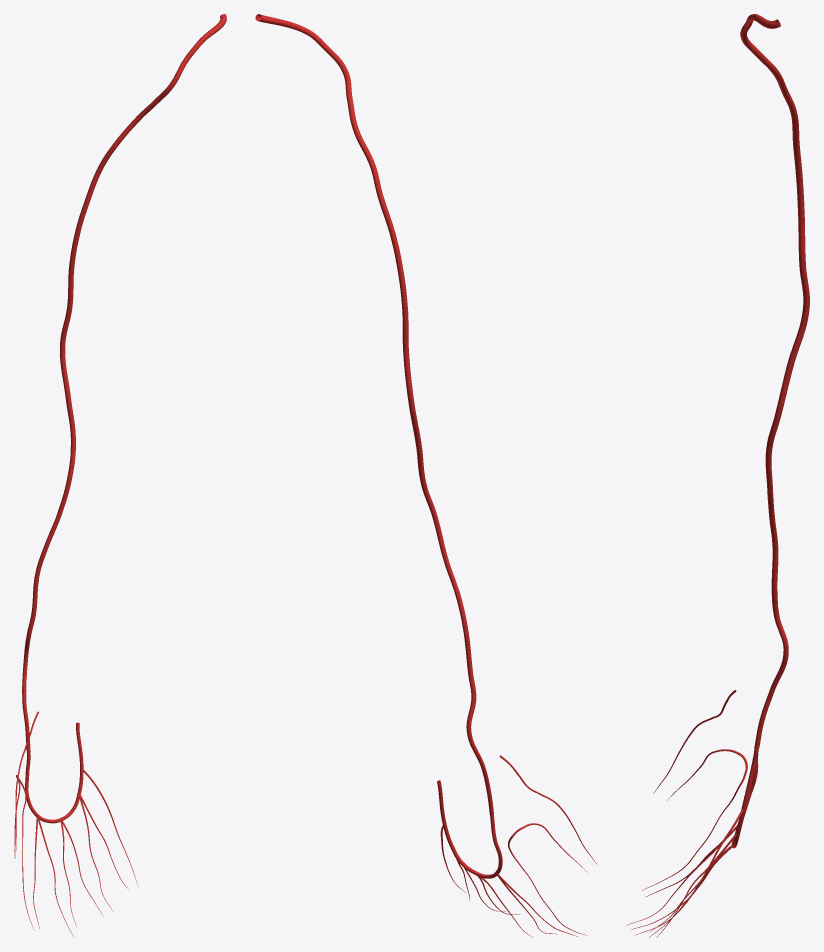
The model's file is circulatorio-cephalic-vein-r.glb.
3 renders of one model, left to right at view 1: azimuth 30°, elevation 25°; view 2: azimuth 150°, elevation 25°; view 3: azimuth 270°, elevation 25°, orthographic. The views are drawn at different scales.
Parts seen in each view (by area): view 1: Cephalic vein.r, Dorsal digital veins of hand.r, Dorsal venous network of hand.r; view 2: Cephalic vein.r, Dorsal digital veins of hand.r, Dorsal venous network of hand.r; view 3: Cephalic vein.r, Dorsal digital veins of hand.r, Dorsal venous network of hand.r.
Part boxes in pixels (left/top/right/bottom): Cephalic vein.r: left=22, top=14, right=226, bottom=752; Dorsal digital veins of hand.r: left=14, top=711, right=138, bottom=936; Dorsal venous network of hand.r: left=25, top=722, right=83, bottom=823; Cephalic vein.r: left=255, top=14, right=493, bottom=815; Dorsal digital veins of hand.r: left=440, top=755, right=597, bottom=937; Dorsal venous network of hand.r: left=437, top=780, right=502, bottom=878; Cephalic vein.r: left=740, top=14, right=809, bottom=749; Dorsal digital veins of hand.r: left=626, top=690, right=747, bottom=937; Dorsal venous network of hand.r: left=731, top=748, right=758, bottom=848.
Size of the model in its own units: 0.2254 by 0.6849 by 0.1105.
